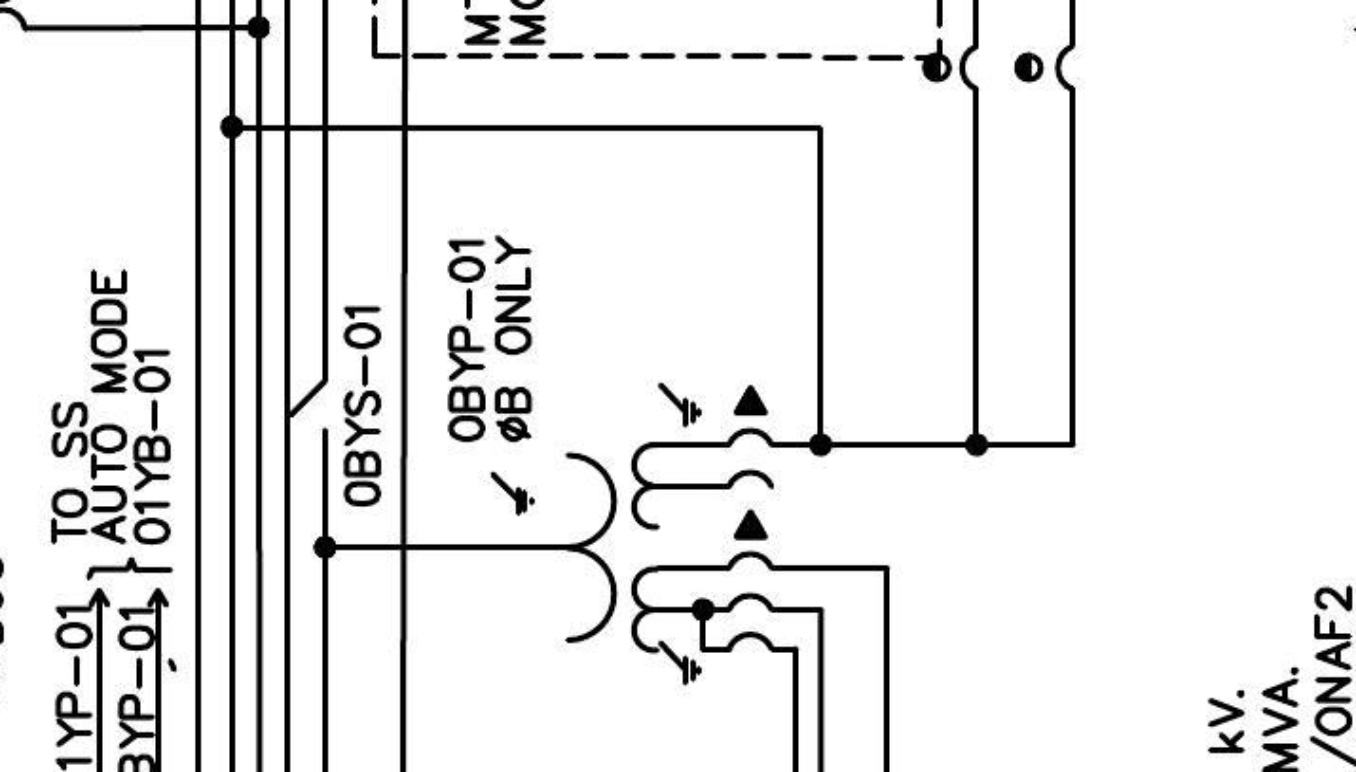115_ds: (291, 379, 329, 436)
115_vt_1p: (488, 381, 775, 688)
